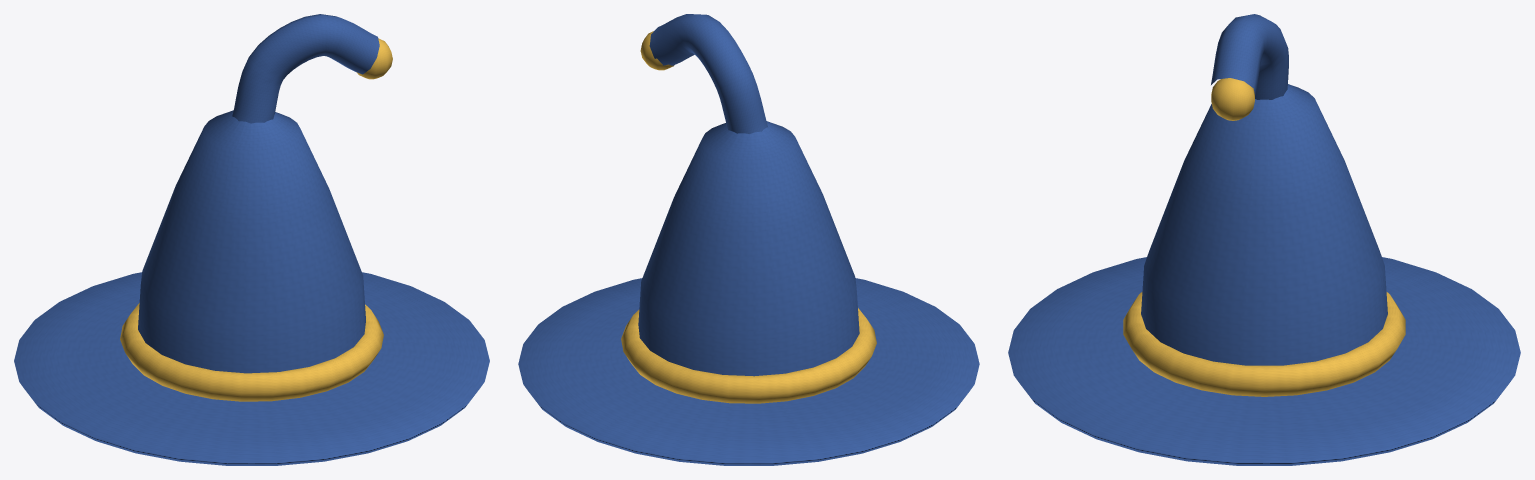
The model's file is helmet_cloth.glb.
3 renders of one model, left to right at view 1: azimuth 30°, elevation 25°; view 2: azimuth 150°, elevation 25°; view 3: azimuth 270°, elevation 25°, orthographic. The views are drawn at different scales.
Parts seen in each view (by area): view 1: helmet_cloth; view 2: helmet_cloth; view 3: helmet_cloth.
Boxes of the visible parts, <box> form: helmet_cloth: <box>14,14,489,465</box>; helmet_cloth: <box>518,14,979,465</box>; helmet_cloth: <box>1008,14,1520,465</box>.
Size of the model in its own units: 0.4873 by 0.3919 by 0.49.
3 materials, 3 textured.
